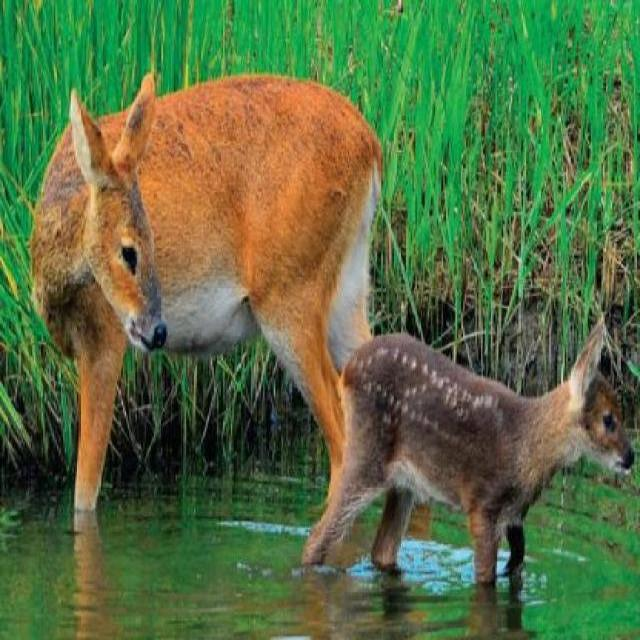deer: (21, 74, 400, 530), (296, 313, 639, 630)
